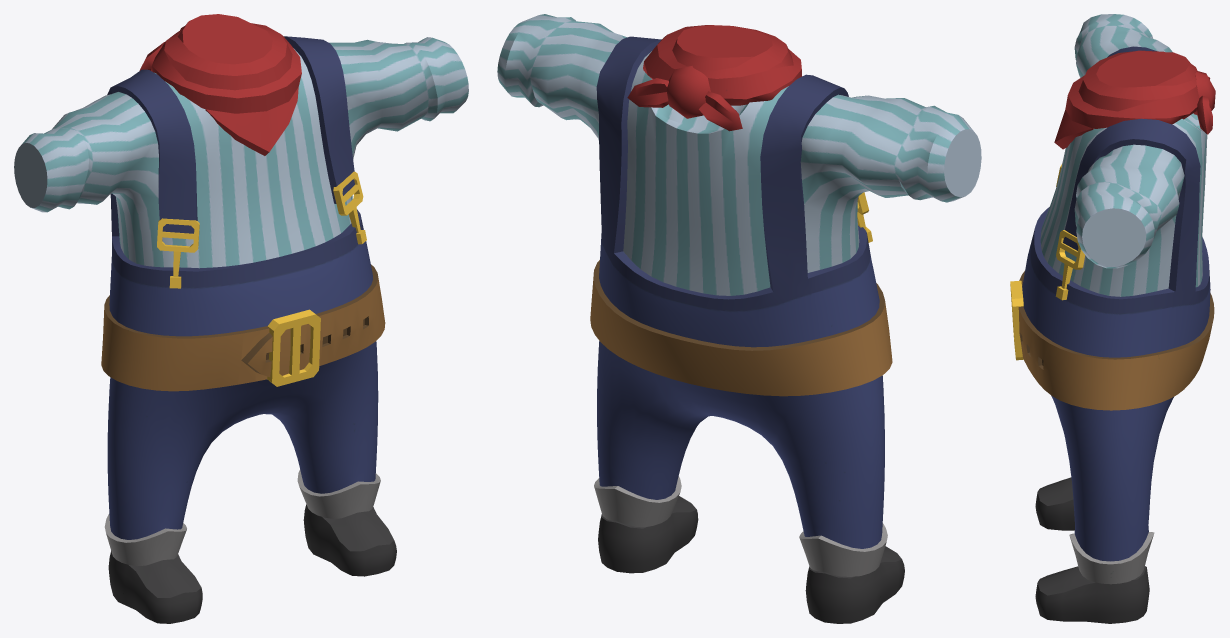
File: 29工程套装.fbx
3 renders of one model, left to right at view 1: azimuth 30°, elevation 25°; view 2: azimuth 150°, elevation 25°; view 3: azimuth 270°, elevation 25°, orthographic. The views are drawn at different scales.
Parts seen in each view (by area): view 1: 29工程套装; view 2: 29工程套装; view 3: 29工程套装.
Boxes of the visible parts, x1,y1,x2,y2 form: 29工程套装: [14, 14, 468, 623]; 29工程套装: [497, 14, 981, 623]; 29工程套装: [1010, 14, 1215, 623].
Bounding box in the file's own units: 1 × 1.18 × 0.4366.
